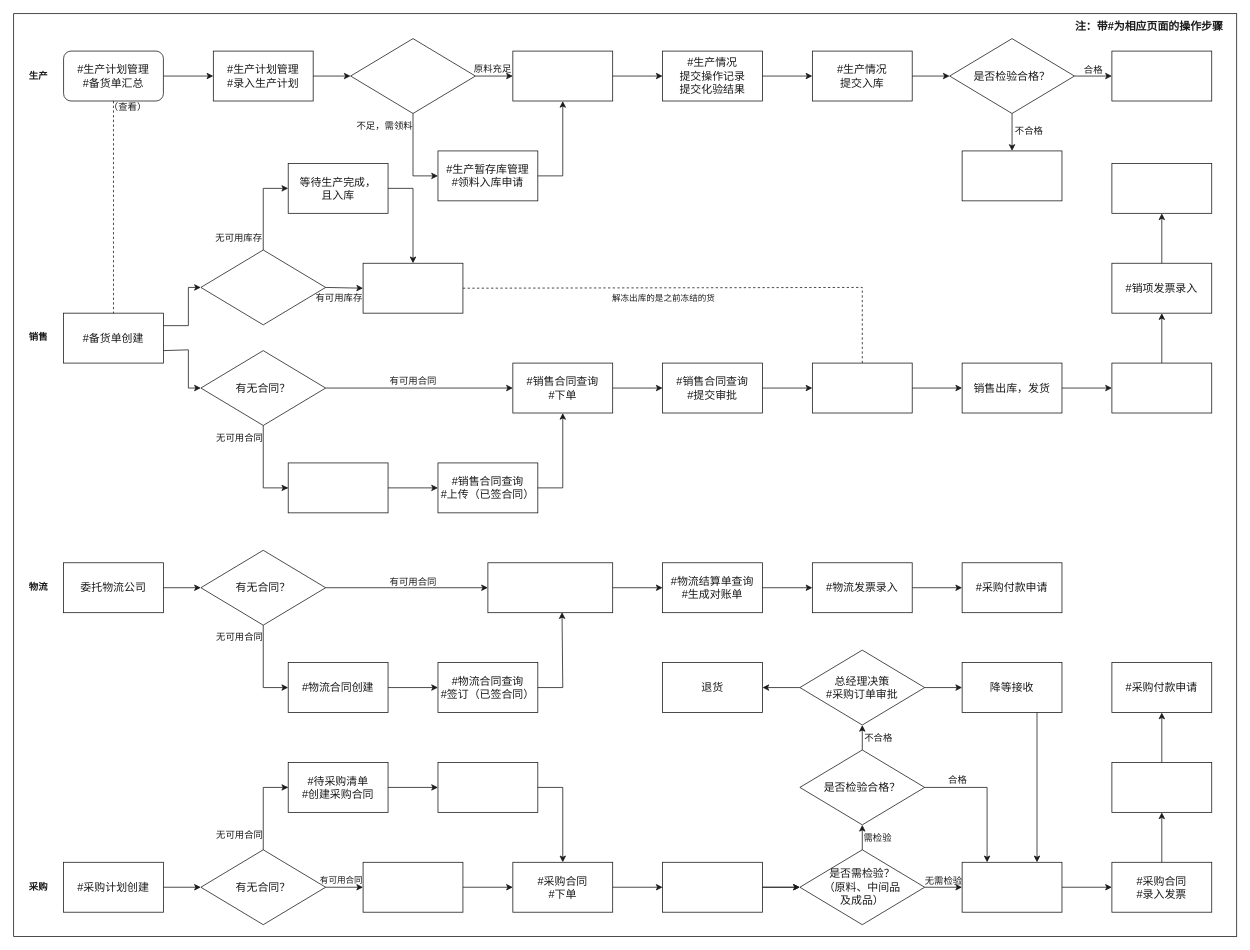
Image size: 1250x950. Some labels were removed from this diagram. The centre of each missing label's shape, as x and y in pixels:
#备货单查询 #关联库存 （使货冻结）: (412,287)
#待采购清单 #关联合同: (412,887)
#物流合同查询 #关联物流结算单 （或#物流结算单创建）: (550,587)
#进项发票录入: (1161,787)
#采购合同 #上传（已签合同）: (487,787)
#销售合同创建: (337,487)
#销售合同查询 #录入发票: (1161,387)
#销项收款录入: (1161,188)
关联批次 #销售订单审批 （使货解冻出库）: (862,387)
到货: (712,887)
开始生产: (562,75)
有无库存？: (263,287)
生产入库（废品库） #库存操作审批: (1011,175)
生产入库（成品库） #库存操作审批: (1161,75)
生产暂存库的 原料是否充足？: (412,75)
采购入库 #采购订单审批: (1011,887)
